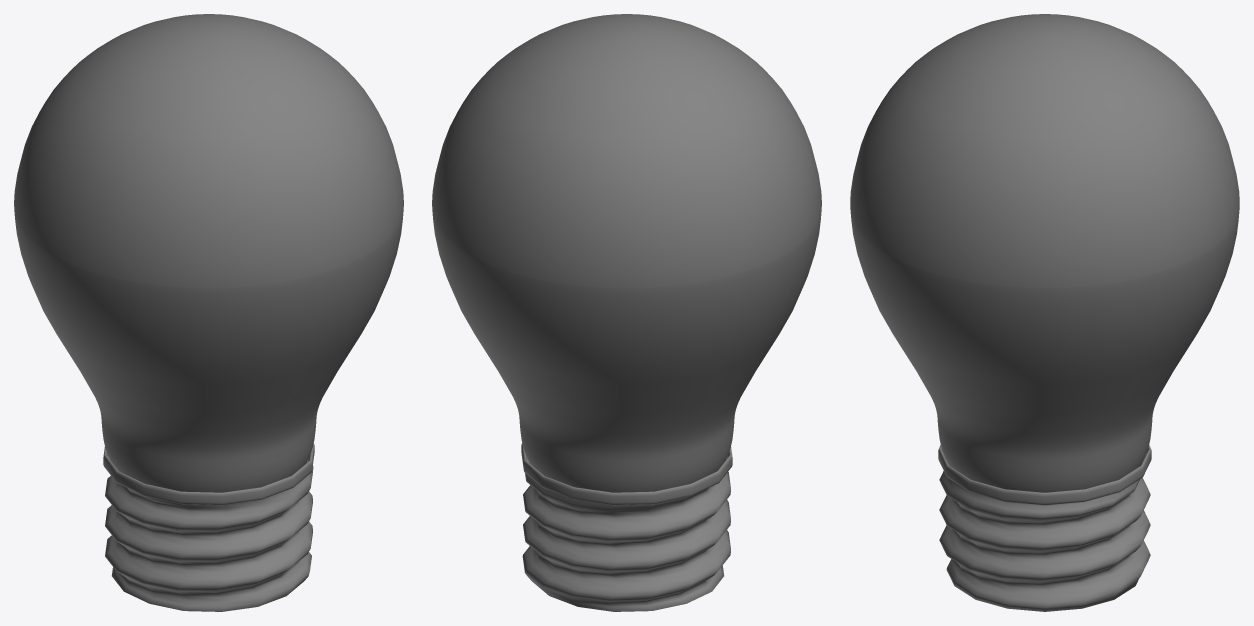
Rendered from lightbulb_2.obj.
The picture shows the model from 3 angles, left to right: view 1: azimuth 30°, elevation 25°; view 2: azimuth 150°, elevation 25°; view 3: azimuth 270°, elevation 25°; orthographic projection.
Visible parts, largest first — view 1: Light_Bulb.2; view 2: Light_Bulb.2; view 3: Light_Bulb.2.
Part boxes in pixels (x1,y1,x2,y2): Light_Bulb.2: (14, 14, 403, 611); Light_Bulb.2: (432, 14, 821, 611); Light_Bulb.2: (850, 14, 1239, 611).
Bounding box in the file's own units: 129 × 210 × 129.
1 material, 1 textured.
